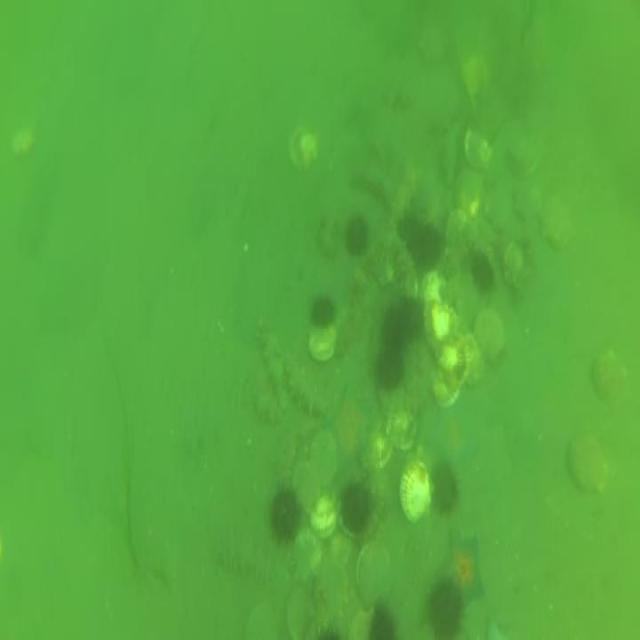echinus: (426, 575, 466, 640), (428, 457, 461, 518), (270, 485, 300, 547), (340, 479, 372, 534), (409, 223, 443, 273), (374, 344, 406, 392), (380, 305, 412, 352), (345, 213, 371, 259), (369, 602, 397, 640), (310, 292, 336, 329), (471, 253, 493, 294)
holothurian: (215, 530, 275, 586), (252, 332, 288, 425), (285, 360, 331, 420), (316, 556, 346, 636), (385, 163, 419, 232), (388, 235, 419, 302), (440, 116, 461, 192), (379, 80, 416, 116)
scallop: (566, 425, 612, 504), (354, 540, 394, 610), (590, 340, 630, 406), (398, 457, 435, 528), (435, 326, 471, 394), (286, 118, 324, 182), (422, 297, 460, 359), (540, 190, 578, 251), (472, 308, 508, 367), (308, 426, 338, 492), (292, 525, 322, 583), (482, 183, 514, 236), (500, 232, 530, 288), (385, 400, 416, 452), (462, 122, 494, 172), (291, 458, 319, 515), (5, 122, 42, 164), (505, 136, 541, 178), (310, 495, 340, 542), (364, 425, 394, 471), (308, 322, 340, 365), (462, 52, 486, 103), (244, 602, 276, 640), (444, 207, 470, 250), (430, 372, 460, 409), (286, 596, 310, 640), (347, 611, 371, 640)
starfish: (440, 528, 487, 615), (425, 406, 480, 473), (330, 384, 369, 471)
